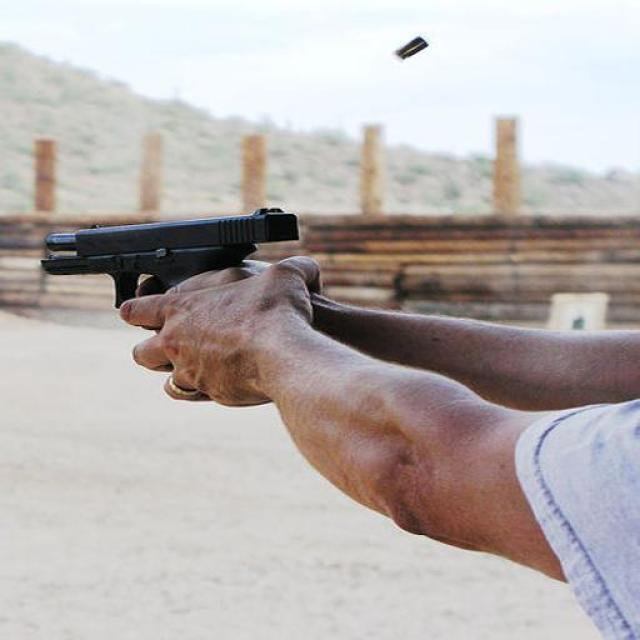pistol: (38, 203, 296, 309)
